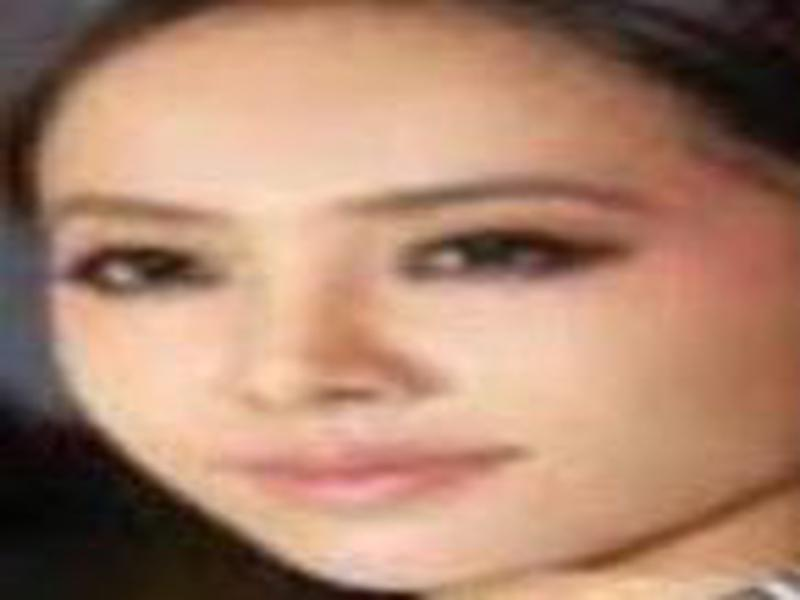without_mask: (38, 70, 748, 589)
